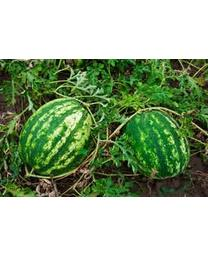watermelon: (18, 99, 100, 177), (124, 110, 192, 182)
